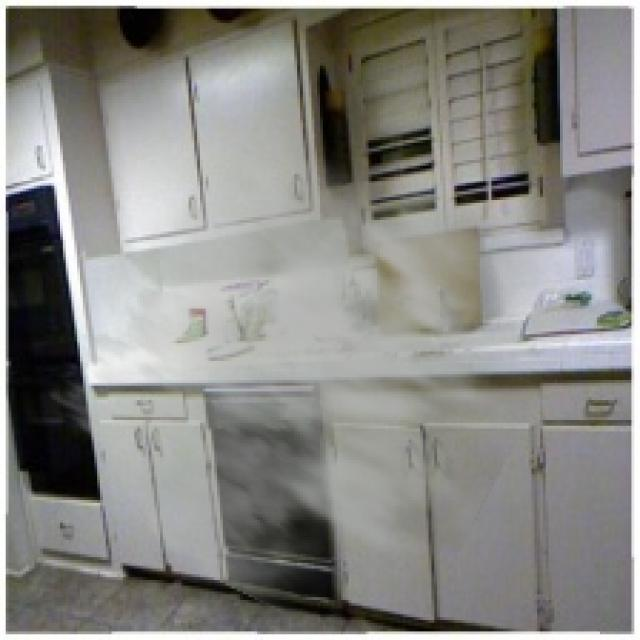smoke: (46, 114, 600, 629)
